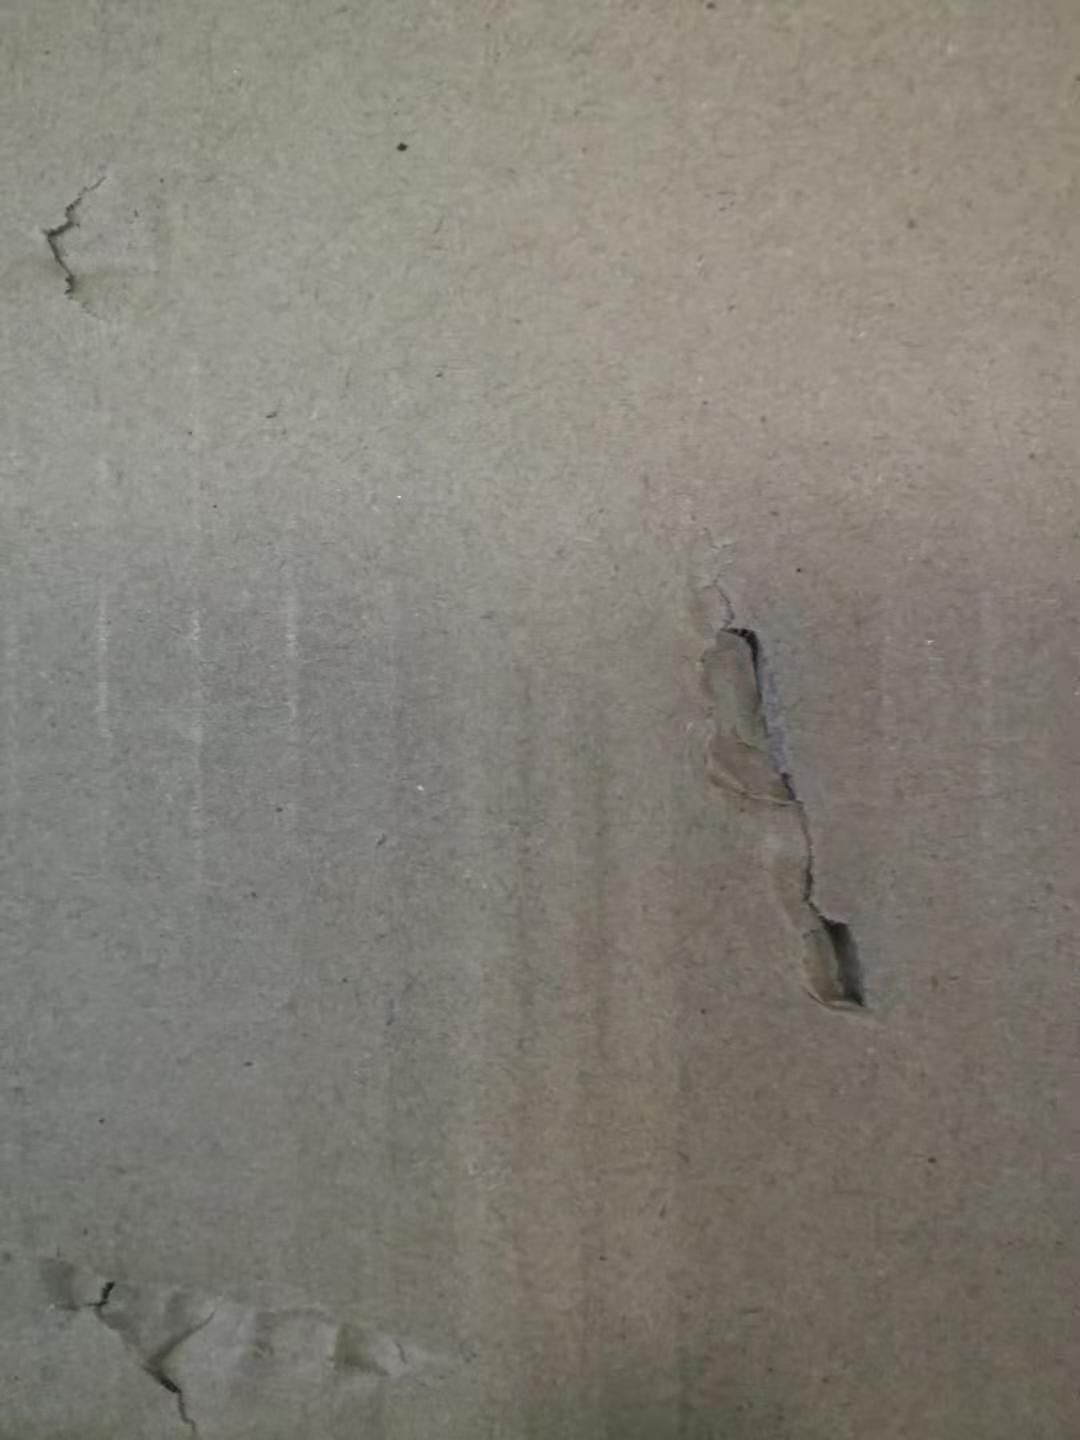defect: (635, 492, 945, 1062), (5, 1201, 534, 1440), (5, 112, 189, 356)
